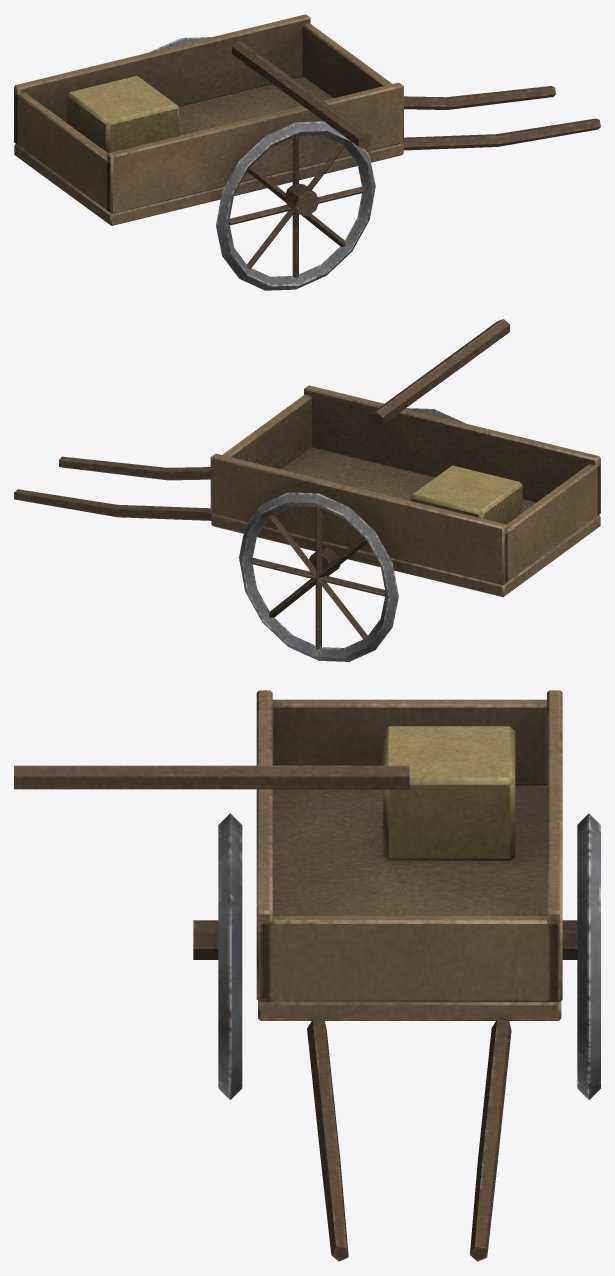
File: carroca.glb
The picture shows the model from 3 angles, top to bottom: view 1: azimuth 30°, elevation 25°; view 2: azimuth 150°, elevation 25°; view 3: azimuth 270°, elevation 25°; orthographic projection. The views are drawn at different scales.
Visible parts, largest first — view 1: carroca; view 2: carroca; view 3: carroca.
Boxes of the visible parts, x1,y1,x2,y2 form: carroca: [14, 14, 600, 290]; carroca: [14, 319, 600, 661]; carroca: [14, 690, 600, 1261].
Size of the model in its own units: 3.5 by 1.35 by 2.22.
Materials: 1 (1 with a texture image).
